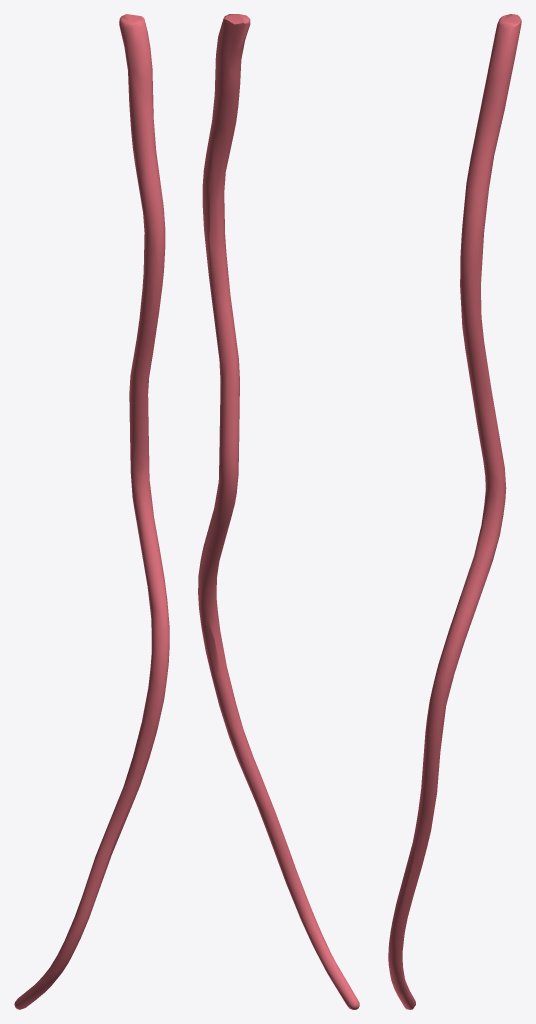
Rendered from fma15391_fj3443.glb.
The picture shows the model from 3 angles, left to right: view 1: azimuth 30°, elevation 25°; view 2: azimuth 210°, elevation 25°; view 3: azimuth 330°, elevation 25°; orthographic projection. The views are drawn at different scales.
Parts seen in each view (by area): view 1: FMA15391_FJ3443; view 2: FMA15391_FJ3443; view 3: FMA15391_FJ3443.
Boxes of the visible parts, x1=… form: FMA15391_FJ3443: x1=14, y1=14, x2=169, y2=1009; FMA15391_FJ3443: x1=198, y1=14, x2=359, y2=1009; FMA15391_FJ3443: x1=388, y1=14, x2=521, y2=1009.
Size of the model in its own units: 0.0217 by 0.1691 by 0.0199.
